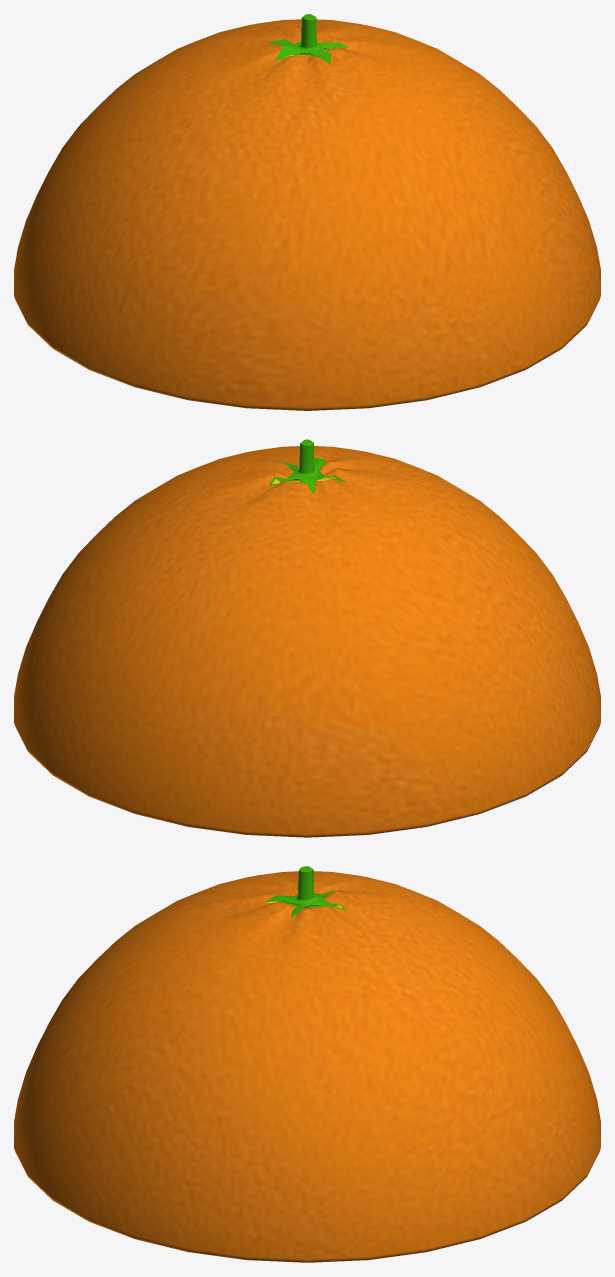
Rendered from orange_slice.obj.
3 views of the same model, one above another, from view 1: azimuth 30°, elevation 25°; view 2: azimuth 150°, elevation 25°; view 3: azimuth 270°, elevation 25° (orthographic).
Parts seen in each view (by area): view 1: pSphere6.002_Untitled.010; view 2: pSphere6.002_Untitled.010; view 3: pSphere6.002_Untitled.010.
Part boxes in pixels (x1,y1,x2,y2): pSphere6.002_Untitled.010: (14,14,600,410); pSphere6.002_Untitled.010: (14,439,600,837); pSphere6.002_Untitled.010: (14,866,600,1262).
Size of the model in its own units: 0.2296 by 0.1191 by 0.2284.
